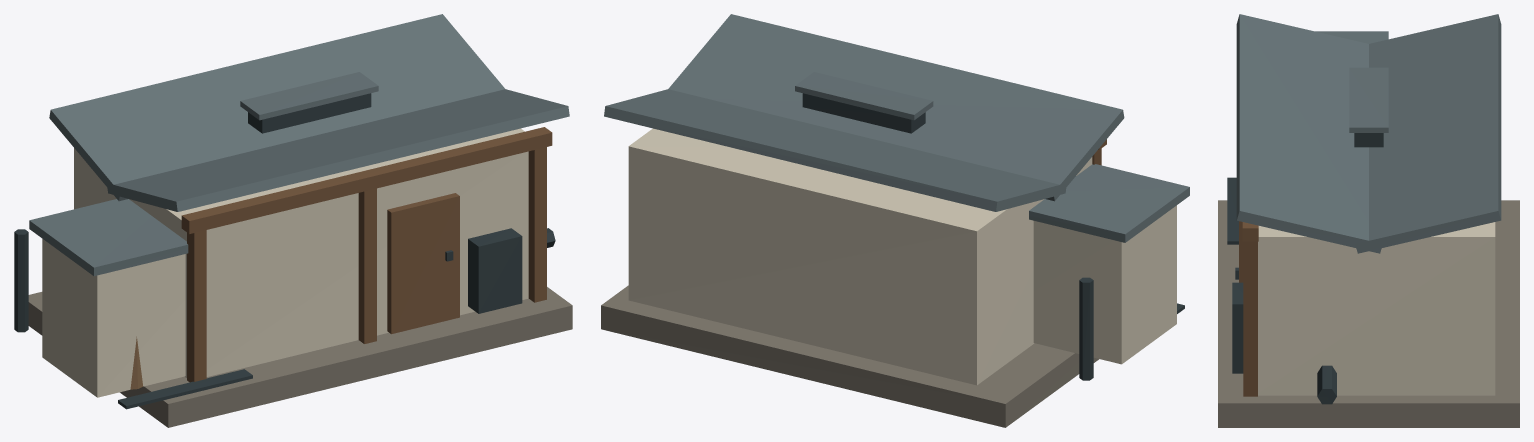
File: Fermentation-House.glb
3 renders of one model, left to right at view 1: azimuth 30°, elevation 25°; view 2: azimuth 150°, elevation 25°; view 3: azimuth 270°, elevation 25°, orthographic. The views are drawn at different scales.
Visible parts, largest first — view 1: wind-pump-static-fermentation-house-galvanized-roof, wind-pump-static-fermentation-house-cream-plaster, wind-pump-static-fermentation-house-weathered-timber, wind-pump-static-fermentation-house-masonry-base, wind-pump-static-fermentation-house-dark-service-iron; view 2: wind-pump-static-fermentation-house-cream-plaster, wind-pump-static-fermentation-house-galvanized-roof, wind-pump-static-fermentation-house-masonry-base, wind-pump-static-fermentation-house-dark-service-iron; view 3: wind-pump-static-fermentation-house-galvanized-roof, wind-pump-static-fermentation-house-cream-plaster, wind-pump-static-fermentation-house-masonry-base, wind-pump-static-fermentation-house-dark-service-iron, wind-pump-static-fermentation-house-weathered-timber.
Part boxes in pixels (bbox=[...]): wind-pump-static-fermentation-house-galvanized-roof: bbox=[29, 14, 569, 276]; wind-pump-static-fermentation-house-cream-plaster: bbox=[42, 128, 528, 397]; wind-pump-static-fermentation-house-weathered-timber: bbox=[181, 127, 552, 382]; wind-pump-static-fermentation-house-masonry-base: bbox=[28, 287, 572, 427]; wind-pump-static-fermentation-house-dark-service-iron: bbox=[14, 93, 555, 409]; wind-pump-static-fermentation-house-cream-plaster: bbox=[628, 128, 1176, 385]; wind-pump-static-fermentation-house-galvanized-roof: bbox=[604, 14, 1189, 242]; wind-pump-static-fermentation-house-masonry-base: bbox=[601, 285, 1099, 427]; wind-pump-static-fermentation-house-dark-service-iron: bbox=[802, 93, 1184, 380]; wind-pump-static-fermentation-house-galvanized-roof: bbox=[1236, 14, 1501, 253]; wind-pump-static-fermentation-house-cream-plaster: bbox=[1258, 222, 1495, 395]; wind-pump-static-fermentation-house-masonry-base: bbox=[1218, 200, 1519, 427]; wind-pump-static-fermentation-house-dark-service-iron: bbox=[1227, 133, 1383, 404]; wind-pump-static-fermentation-house-weathered-timber: bbox=[1239, 221, 1258, 396].
Size of the model in its own units: 4.74 by 2.11 by 2.45.
